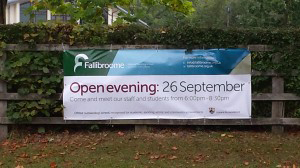vinyl banner: (57, 47, 271, 125)
